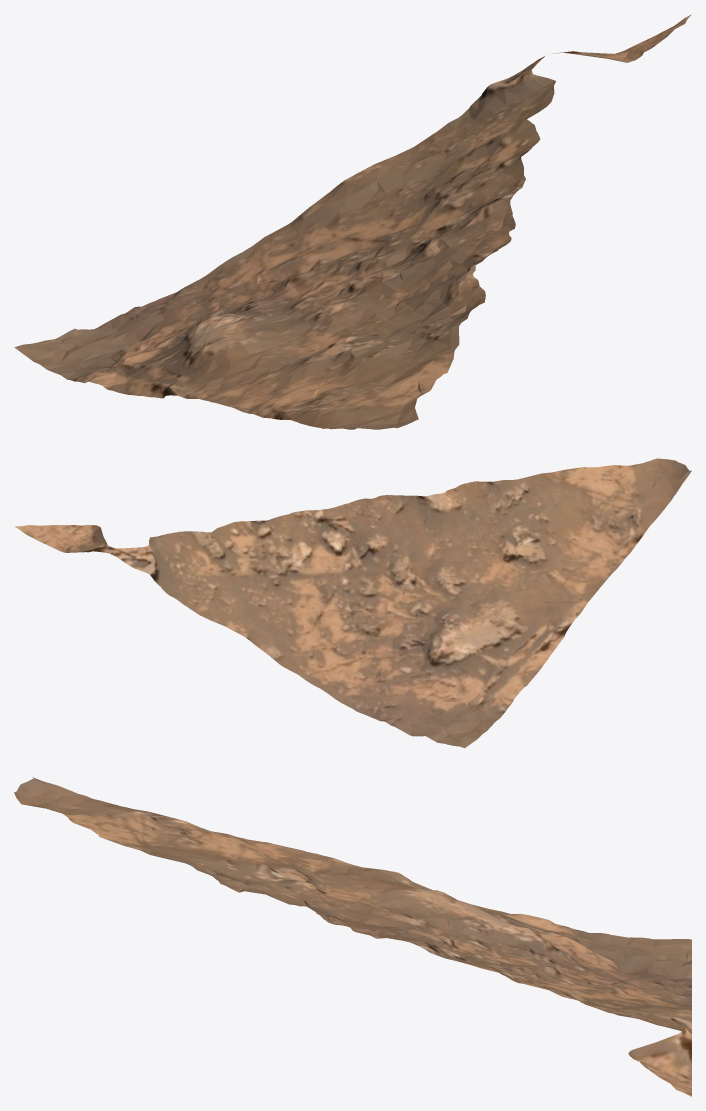
3 renders of one model, top to bottom at view 1: azimuth 30°, elevation 25°; view 2: azimuth 150°, elevation 25°; view 3: azimuth 270°, elevation 25°, orthographic. The views are drawn at different scales.
Size of the model in its own units: 1.49 by 0.3573 by 1.34.
Materials: 1 (1 with a texture image).
